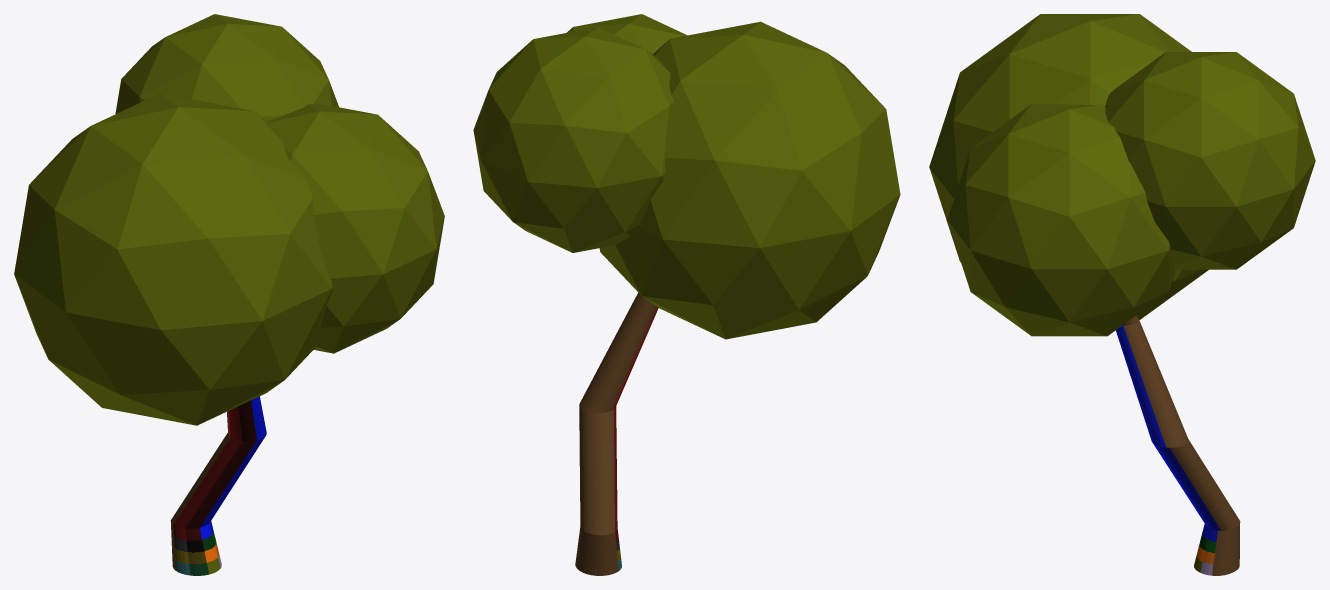
Rendered from Åsna.glb.
The picture shows the model from 3 angles, left to right: view 1: azimuth 30°, elevation 25°; view 2: azimuth 150°, elevation 25°; view 3: azimuth 270°, elevation 25°; orthographic projection. The views are drawn at different scales.
Visible parts, largest first — view 1: Cylinder; view 2: Cylinder; view 3: Cylinder.
Boxes of the visible parts, x1,y1,x2,y2 form: Cylinder: [14, 14, 444, 575]; Cylinder: [473, 14, 900, 575]; Cylinder: [929, 14, 1315, 575].
Bounding box in the file's own units: 1.27 × 1.76 × 1.19.
Materials: 1 (1 with a texture image).
